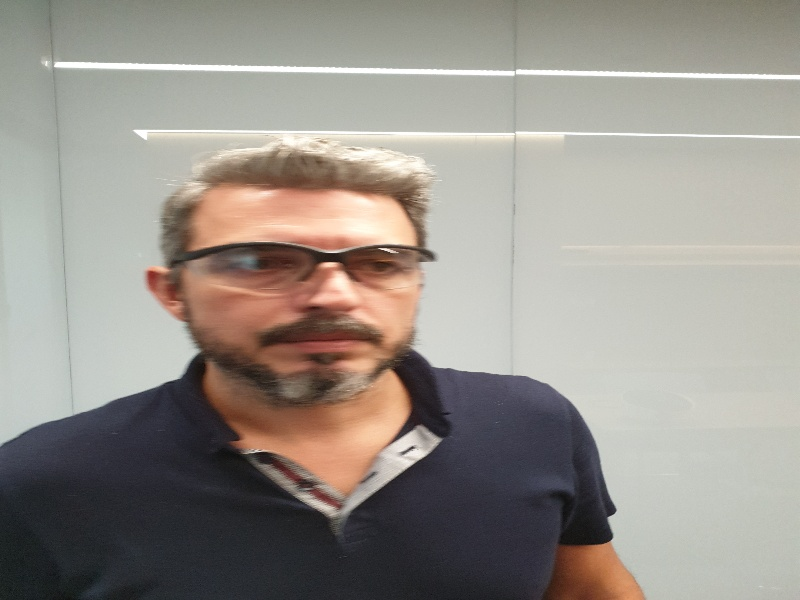Gozluk: (170, 241, 442, 294)
